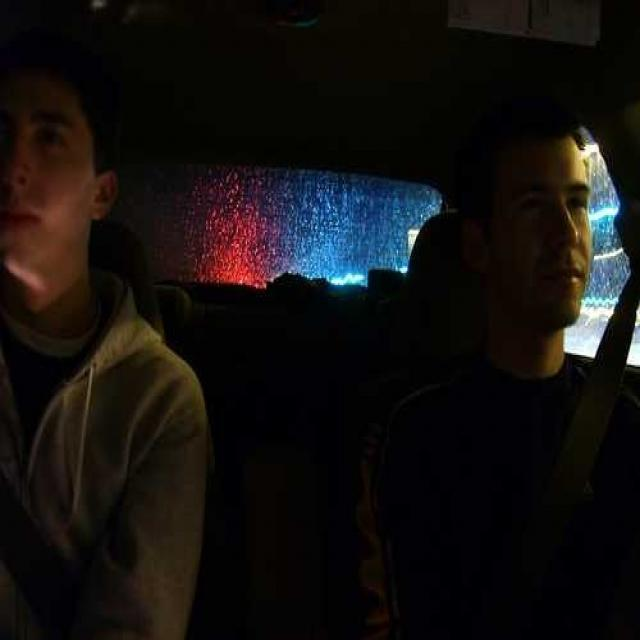seatbelt: (514, 311, 635, 558), (4, 447, 70, 615)
